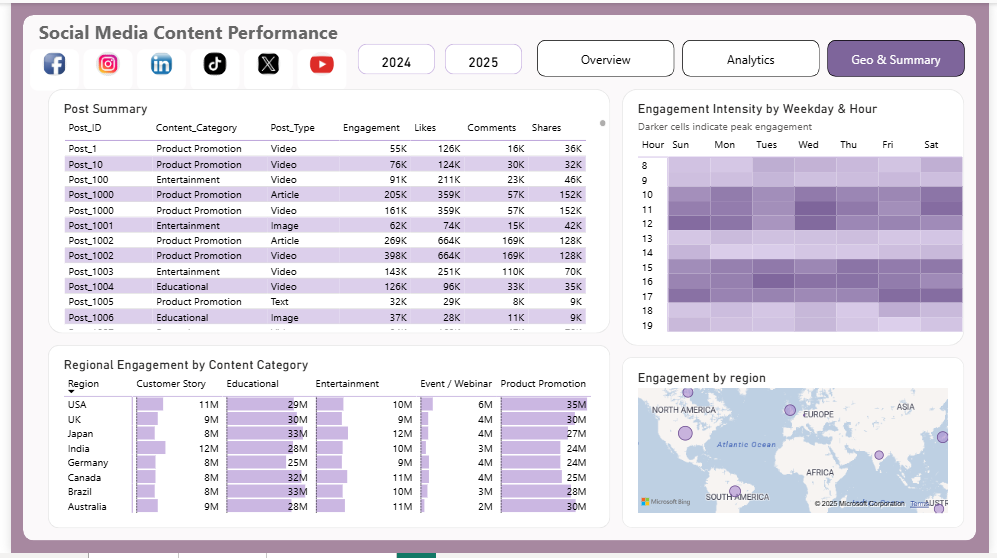

What the dashboard file says about the page in this screenshot:
{"tool":"powerbi","page":{"name":"Geo & Summary","canvas":[1280,720],"ordinal":2},"visuals":[{"type":"shape","box":[16,16,1248,688],"z":0},{"type":"shape","box":[800,112,448,336],"z":1000},{"type":"shape","box":[800,464,448,224],"z":2000},{"type":"pivotTable","title":"Engagement Intensity by Weekday & Hour","fields":{"Rows":["Sheet1.Post_Hour"],"Columns":["Sheet1.Day-name"],"Values":["Mes.Total_Eng"]},"box":[816,128,448,320],"z":3000},{"type":"map","title":"Engagement by region","fields":{"Category":["Sheet1.Region"],"Size":["Mes.Total_Eng"]},"box":[816,480,416,192],"z":4000},{"type":"shape","box":[48,448,736,240],"z":5000},{"type":"pivotTable","title":"Regional Engagement by Content Category","fields":{"Rows":["Sheet1.Region"],"Columns":["Sheet1.Content_Category"],"Values":["Sum(Sheet1.Engagement)"]},"box":[64,464,720,224],"z":6000},{"type":"advancedSlicerVisual","fields":{"Values":["Sheet1.Year"]},"box":[449,48,226,48],"z":7000},{"type":"pageNavigator","box":[688,48,560,48],"z":8000},{"type":"ChicletSlicer1448559807354","fields":{"Category":["Sheet1.Platform"],"Image":["Table.Img"]},"box":[17,57,430,72],"z":9000},{"type":"shape","box":[48,112,736,320],"z":10000},{"type":"textbox","box":[32,16,560,48],"z":11000},{"type":"tableEx","title":"Post Summary","fields":{"Values":["Sheet1.Post_ID","Sheet1.Content_Category","Sheet1.Post_Type","Sum(Sheet1.Engagement)","Mes.Total_likes","Sum(Sheet1.Comments)","Sum(Sheet1.Shares)"]},"box":[64,128,720,304],"z":12000}]}

Visuals, with their boxes in screenshot pixels (x1, y1, x2, y2), scaled from the page's 1280x720 canvas onto the 997x558 screenshot:
shape: [12,12,985,546]
shape: [623,87,972,347]
shape: [623,360,972,533]
"Engagement Intensity by Weekday & Hour" pivotTable: [636,99,985,347]
"Engagement by region" map: [636,372,960,521]
shape: [37,347,611,533]
"Regional Engagement by Content Category" pivotTable: [50,360,611,533]
advancedSlicerVisual - Sheet1.Year: [350,37,526,74]
pageNavigator: [536,37,972,74]
ChicletSlicer1448559807354 - Sheet1.Platform x Table.Img: [13,44,348,100]
shape: [37,87,611,335]
textbox: [25,12,461,50]
"Post Summary" tableEx: [50,99,611,335]
